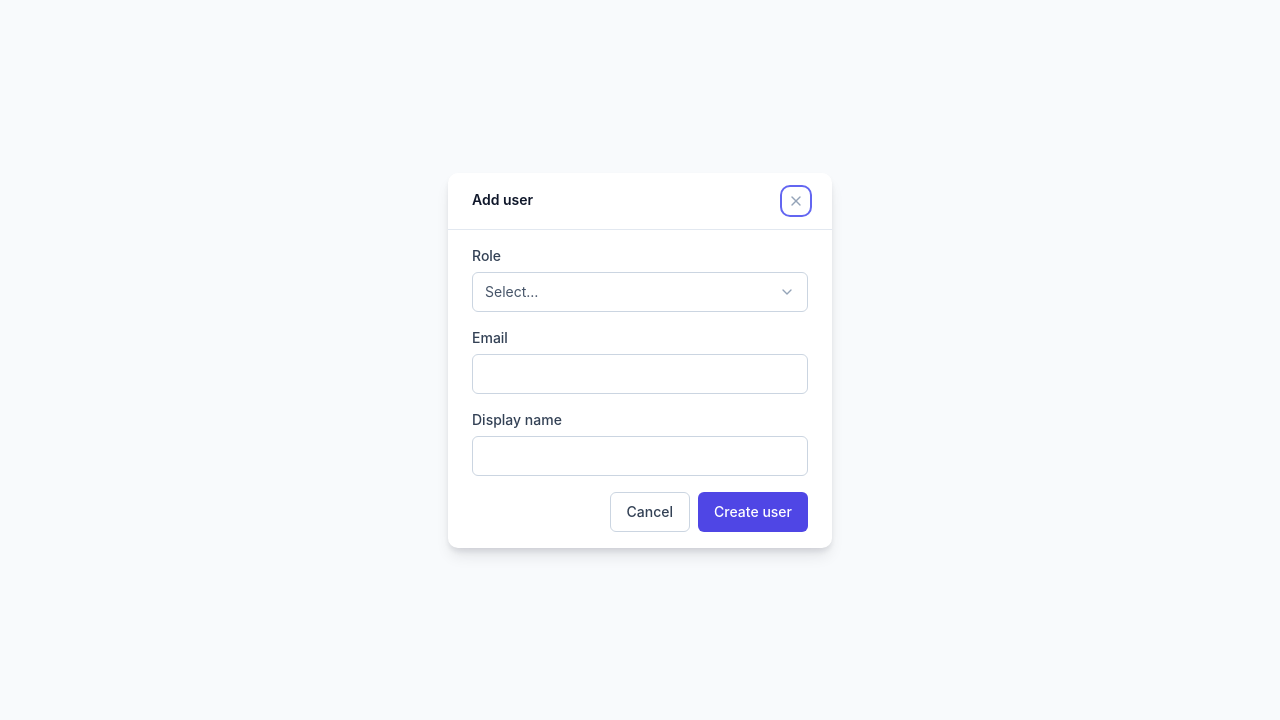
Test: AddUserModal — TC-26/TC-27: the role dropdown offers only the actor's allowed roles › tenant_admin sees only maker, checker and merchant (TC-26)
What coordinates should you click on to do the following:
click the dropdown named "role"
I would click on:
 (512, 291)
Its box is [472,272,808,312].
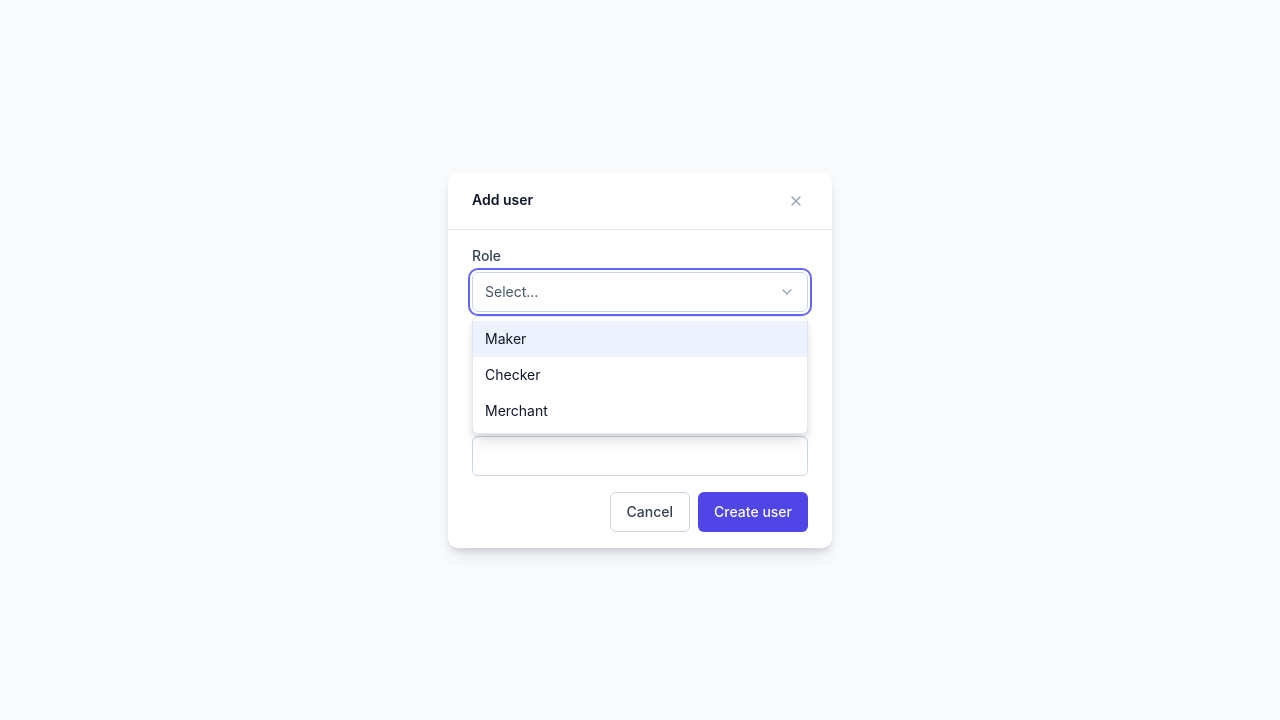
Expected: the option "Maker" is shown, [473,320,807,356]
Expected: the option "Checker" is shown, [485,366,540,382]
Expected: the option "Merchant" is shown, [485,402,548,418]
